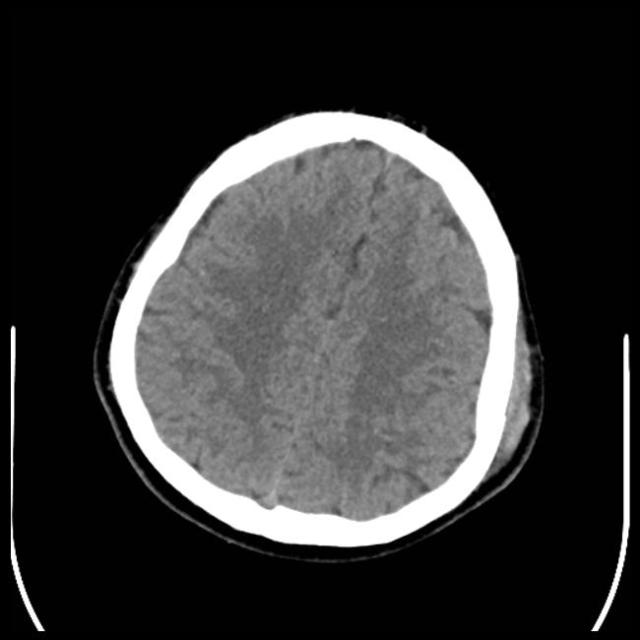lesion: (94, 106, 546, 558)
